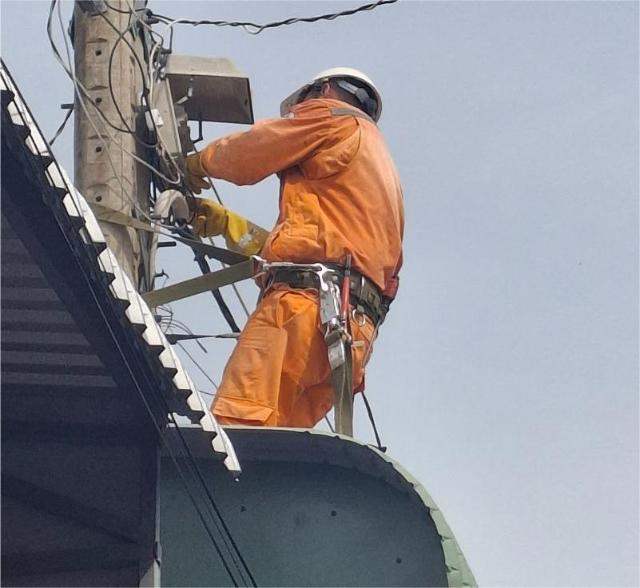gloves: (168, 190, 280, 253), (166, 139, 246, 200)
harness: (241, 251, 431, 351)
helmet: (256, 56, 394, 134)
